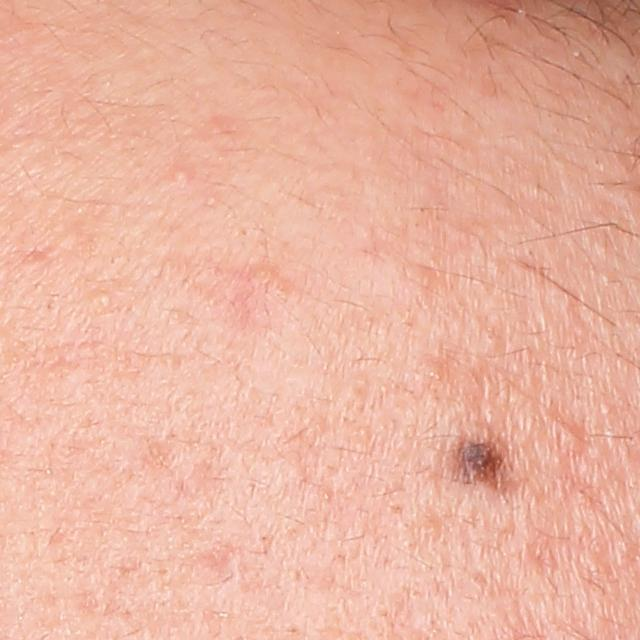atrophic_scar: (173, 544, 234, 588)
comedo: (554, 423, 589, 456), (168, 167, 194, 192), (96, 290, 114, 309)
nevus: (451, 439, 507, 484)
